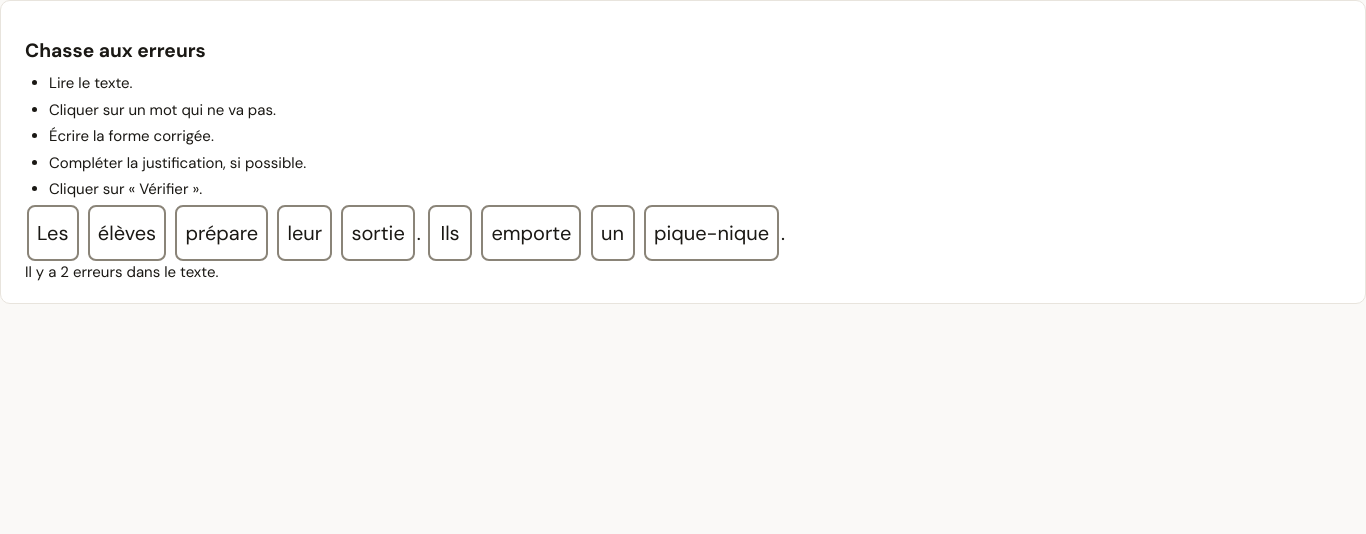
Test: Chasse : réponses qualitatives › mot qui n’est pas à corriger : message neutre, sans dire où chercher
Click the button "sortie".
click(378, 233)  # box [342,205,415,261]
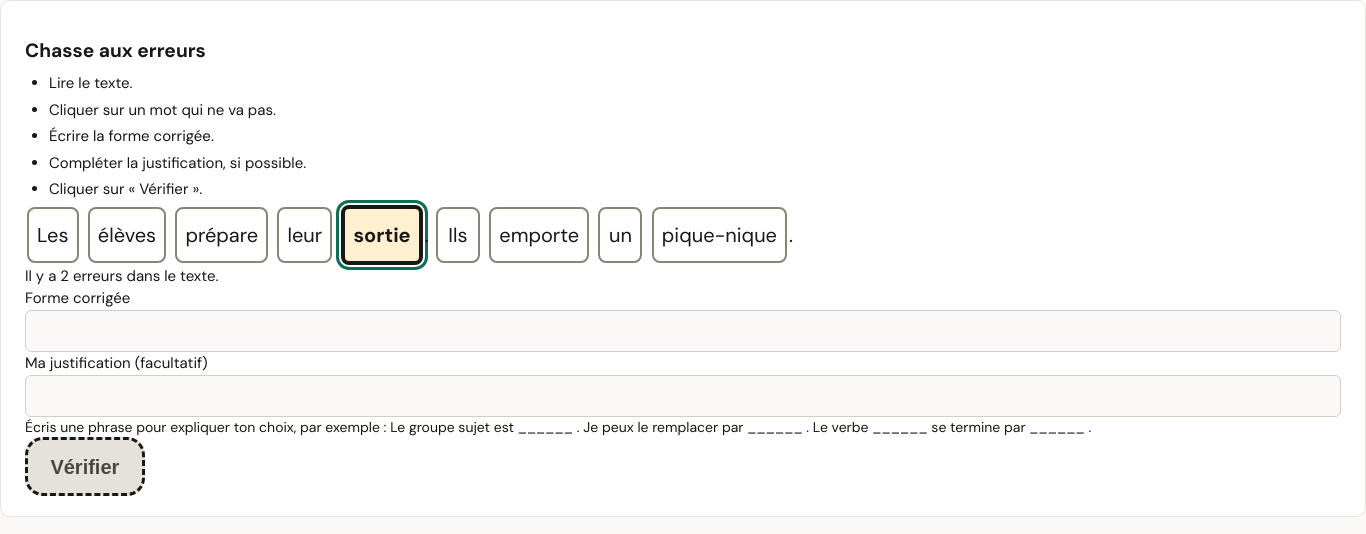
Type "sorties" into the field labelled "Forme corrigée".
click(683, 331); type("sorties")  # box [25,310,1341,352]
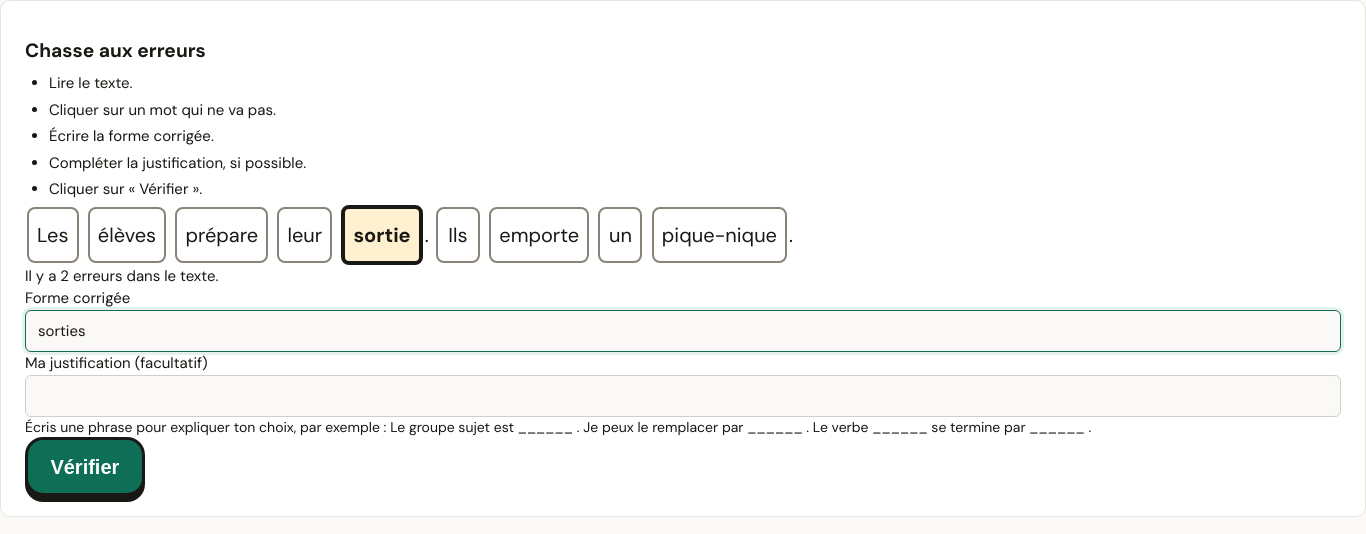
Click the button "Vérifier".
click(85, 467)  # box [25,437,145,496]
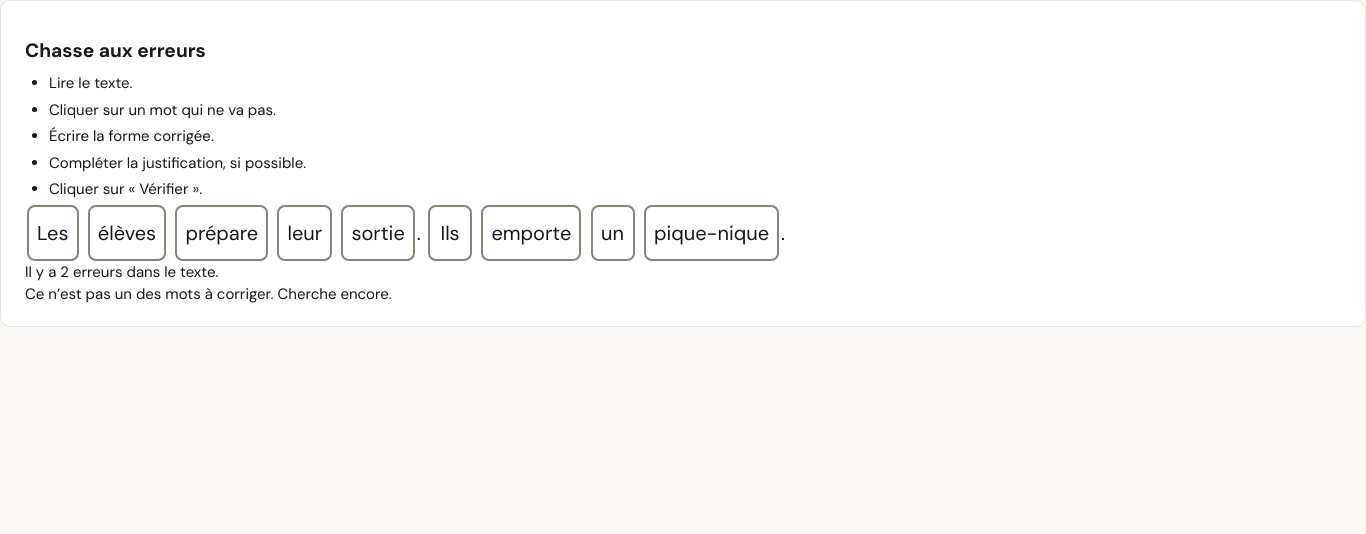
expect the message reads "Ce n’est pas un des mots à corriger. Cherche encore.": met, box [25,284,392,304]
